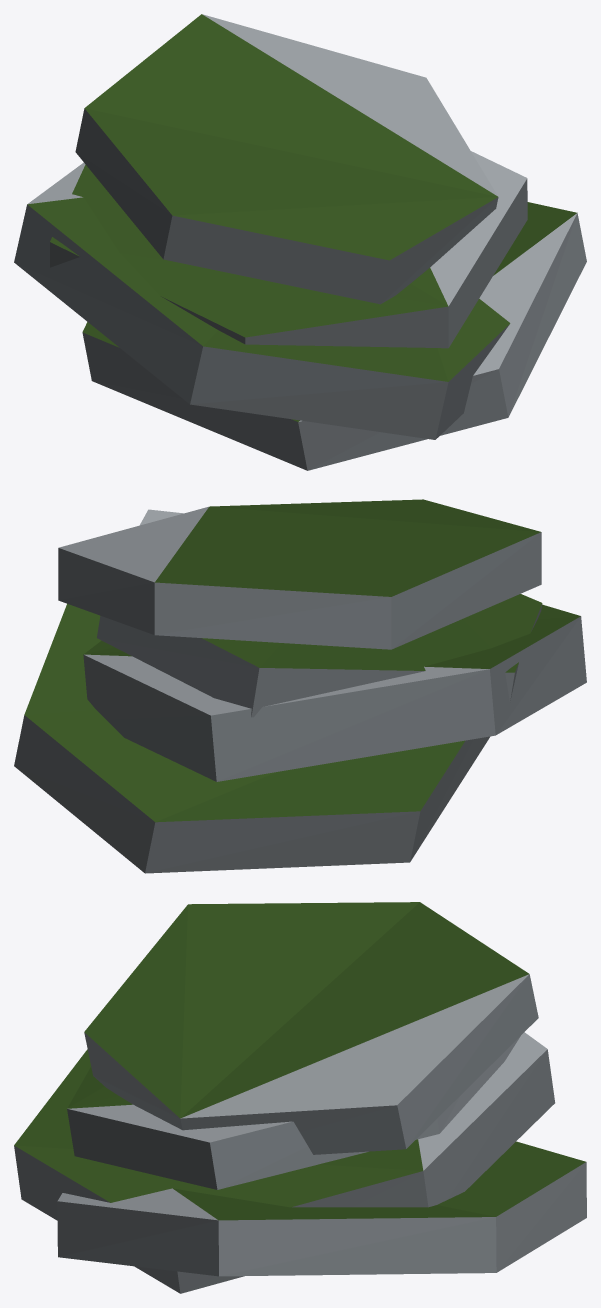
The model's file is rock.slab__outcrop__summer.glb.
3 renders of one model, top to bottom at view 1: azimuth 30°, elevation 25°; view 2: azimuth 150°, elevation 25°; view 3: azimuth 270°, elevation 25°, orthographic. The views are drawn at different scales.
Parts seen in each view (by area): view 1: rock.slab; view 2: rock.slab; view 3: rock.slab.
Boxes of the visible parts, box(x1,y1,x2,y2) form: rock.slab: box(14, 14, 586, 470); rock.slab: box(14, 499, 586, 873); rock.slab: box(14, 902, 586, 1293).
Bounding box in the file's own units: 2.11 × 1.13 × 2.15.
